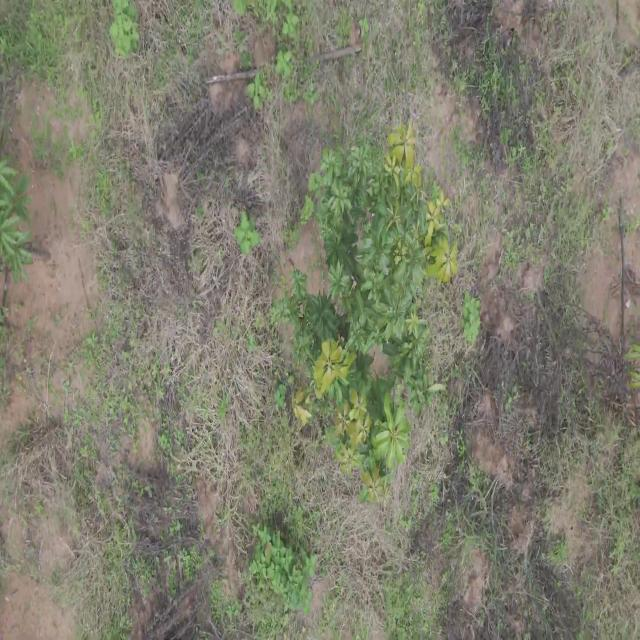mangoTree: (284, 122, 460, 499)
